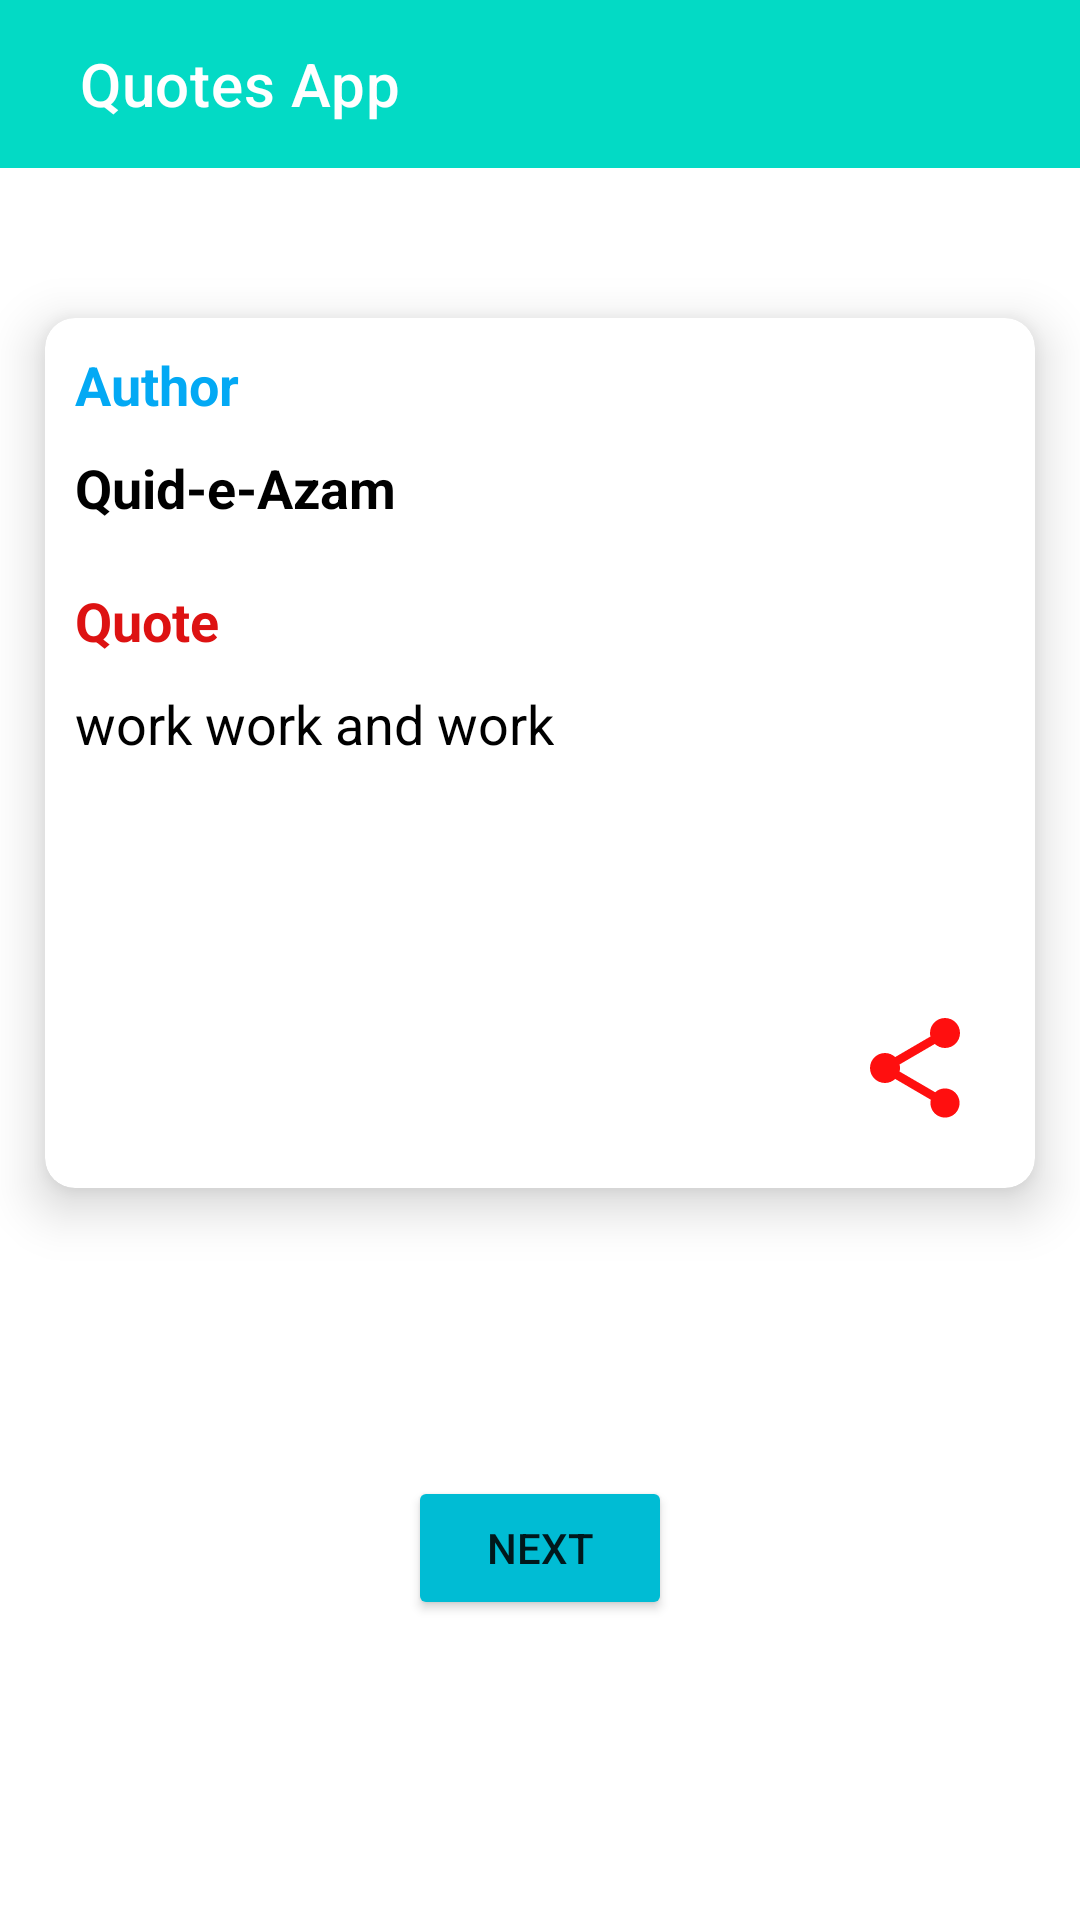

Where to tap for icons on this 1080x1920 app screen, as [x,y]:
share: [915,1068]
